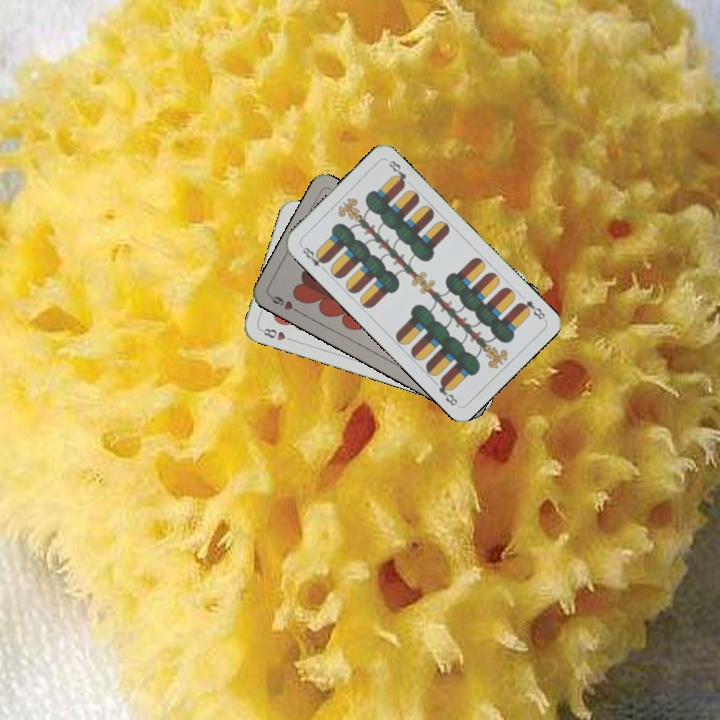E8: (297, 241, 329, 274), (514, 296, 548, 322)
H8: (257, 324, 297, 344)
H9: (266, 291, 304, 316)
